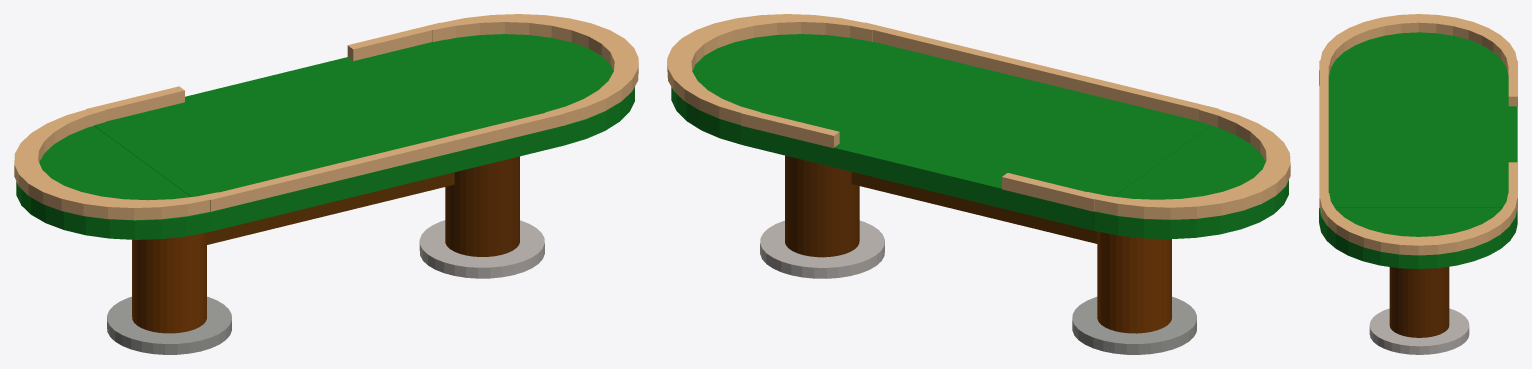
The model's file is PokerTableFBX-v4.fbx.
3 renders of one model, left to right at view 1: azimuth 30°, elevation 25°; view 2: azimuth 150°, elevation 25°; view 3: azimuth 270°, elevation 25°, orthographic. The views are drawn at different scales.
Parts seen in each view (by area): view 1: Cube.003, Cube, Cylinder.004, Cylinder.000, Cylinder.002, Cylinder.001, Cube.001; view 2: Cube.003, Cube, Cylinder.004, Cylinder.000, Cylinder.002, Cylinder.001, Cube.001; view 3: Cube.003, Cube, Cylinder.000, Cylinder.002.
Part boxes in pixels (x1,y1,x2,y2): Cube.003: (16,34,634,239); Cube: (14,14,638,220); Cylinder.004: (132,232,206,333); Cylinder.000: (445,156,519,256); Cylinder.002: (419,220,544,278); Cylinder.001: (107,296,231,354); Cube.001: (207,172,454,244); Cube.003: (671,34,1288,239); Cube: (667,14,1290,219); Cylinder.004: (1097,231,1171,333); Cylinder.000: (785,155,859,257); Cylinder.002: (760,220,884,278); Cylinder.001: (1072,296,1196,354); Cube.001: (851,172,1097,243); Cube.003: (1319,32,1517,268); Cube: (1319,14,1517,255); Cylinder.000: (1389,266,1449,337); Cylinder.002: (1369,308,1469,354).
Size of the model in its own units: 5.56 by 1.6 by 2.02.
